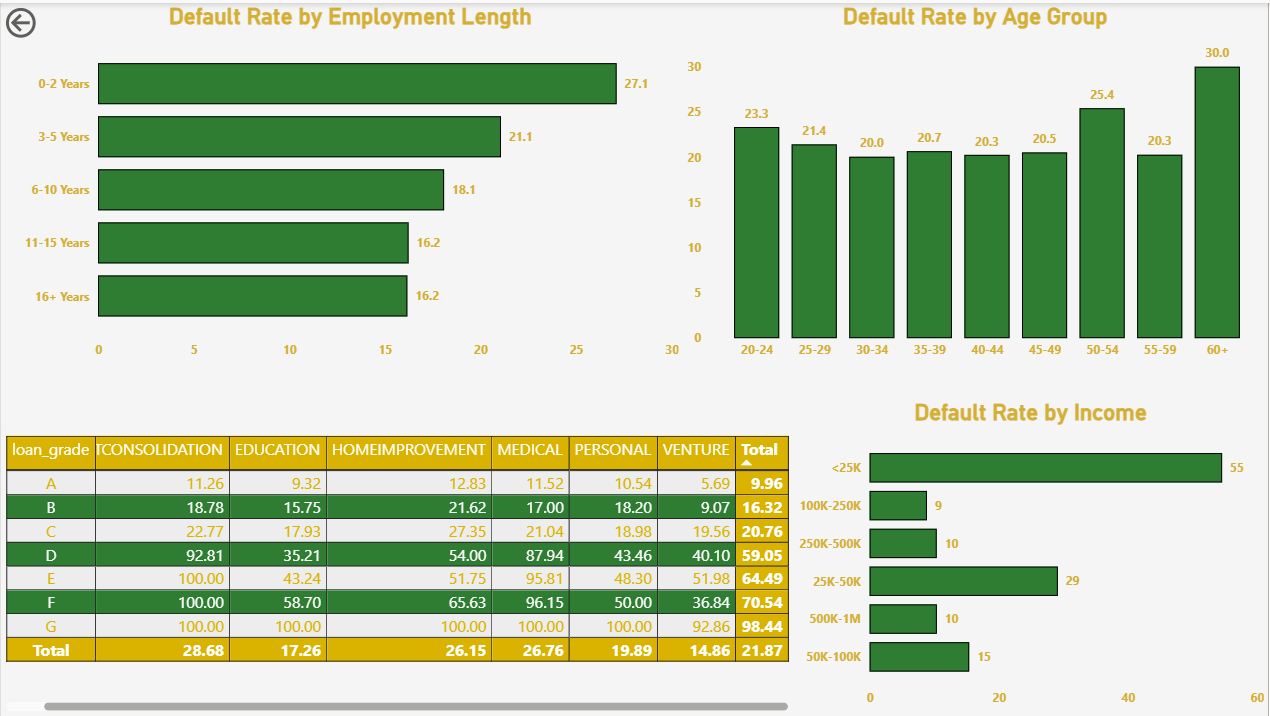

This screenshot's page, from the dashboard's own definition file:
{"tool":"powerbi","page":{"name":"Risk Analysis","canvas":[1280,720],"ordinal":3},"visuals":[{"type":"barChart","title":"Default Rate by Employment Length","fields":{"Y":["Measurement.defualt_rate"],"Category":["credit_risk_dataset.Employment Group"]},"box":[16,0,672,368],"z":0},{"type":"clusteredColumnChart","title":"Default Rate by Age Group","fields":{"Y":["Measurement.defualt_rate"],"Category":["credit_risk_dataset.Age Group"]},"box":[688,0,592,368],"z":1000},{"type":"pivotTable","fields":{"Rows":["credit_risk_dataset.loan_grade"],"Columns":["credit_risk_dataset.loan_intent"],"Values":["Measurement.defualt_rate"]},"box":[0,432,800,288],"z":2000},{"type":"actionButton","box":[0,0,100,40],"z":3000},{"type":"clusteredBarChart","title":"Default Rate by Income","fields":{"Category":["credit_risk_dataset.Income Group"],"Y":["Measurement.defualt_rate"]},"box":[800,400,480,320],"z":4000}]}

Visuals, with their boxes in screenshot pixels (x1, y1, x2, y2), scaled from the page's 1280x720 canvas onto the 1270x716 screenshot:
"Default Rate by Employment Length" barChart: (left=16, top=0, right=683, bottom=366)
"Default Rate by Age Group" clusteredColumnChart: (left=683, top=0, right=1269, bottom=366)
pivotTable - credit_risk_dataset.loan_grade x credit_risk_dataset.loan_intent: (left=0, top=430, right=794, bottom=715)
actionButton: (left=0, top=0, right=99, bottom=40)
"Default Rate by Income" clusteredBarChart: (left=794, top=398, right=1269, bottom=715)
